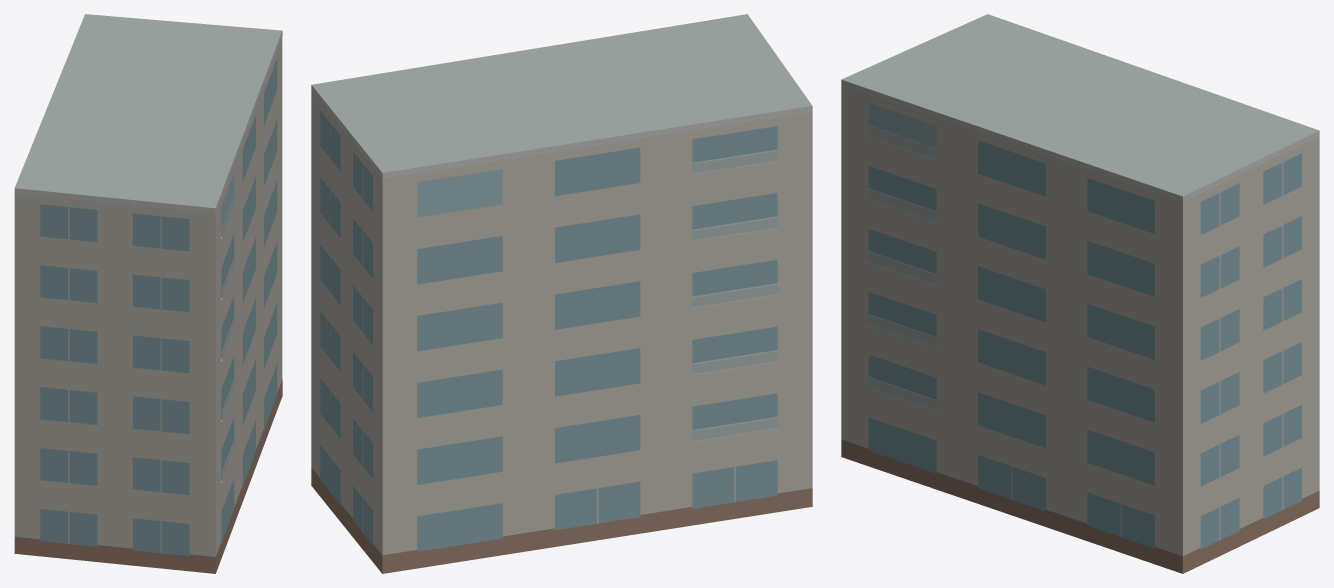
The model's file is survey-upis-32871517.glb.
The picture shows the model from 3 angles, left to right: view 1: azimuth 30°, elevation 25°; view 2: azimuth 150°, elevation 25°; view 3: azimuth 270°, elevation 25°; orthographic projection. The views are drawn at different scales.
Parts seen in each view (by area): view 1: survey-upis-32871517.tmp; view 2: survey-upis-32871517.tmp; view 3: survey-upis-32871517.tmp.
Part boxes in pixels (x1,y1,x2,y2): survey-upis-32871517.tmp: (14, 14, 282, 573); survey-upis-32871517.tmp: (311, 14, 812, 573); survey-upis-32871517.tmp: (841, 14, 1319, 573).
Bounding box in the file's own units: 17.12 × 16.5 × 18.97.
